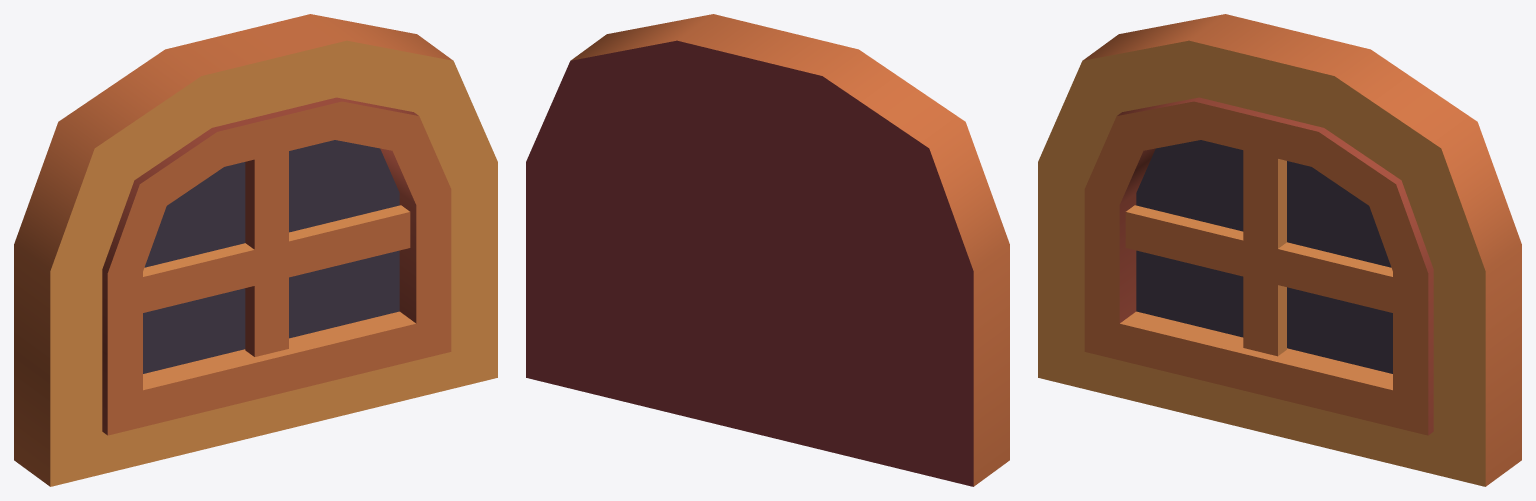
File: Window01_Orange_Wood.glb
3 renders of one model, left to right at view 1: azimuth 30°, elevation 25°; view 2: azimuth 150°, elevation 25°; view 3: azimuth 330°, elevation 25°, orthographic.
Visible parts, largest first — view 1: Window01_Orange_Wood; view 2: Window01_Orange_Wood; view 3: Window01_Orange_Wood.
Boxes of the visible parts, <box> form: Window01_Orange_Wood: <box>14,14,497,486</box>; Window01_Orange_Wood: <box>526,14,1009,486</box>; Window01_Orange_Wood: <box>1038,14,1521,486</box>.
Bounding box in the file's own units: 0.8998 × 0.7186 × 0.1456.
1 material, 1 textured.
